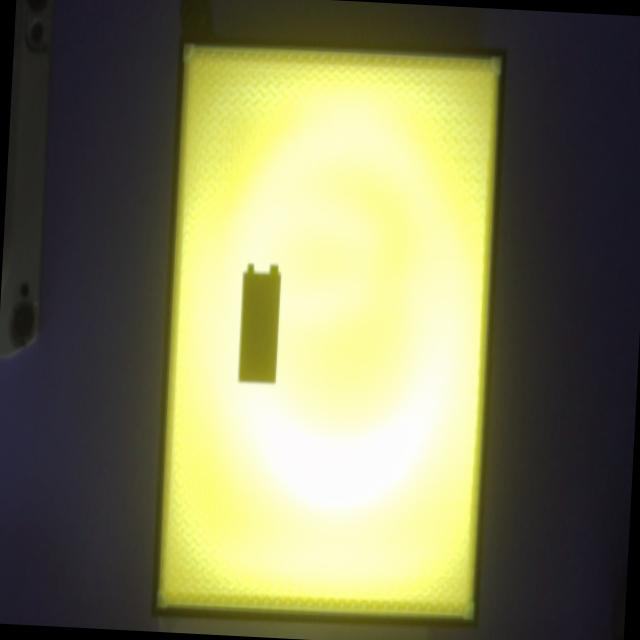bateria: (237, 262, 282, 384)
mesa: (150, 33, 507, 631)
